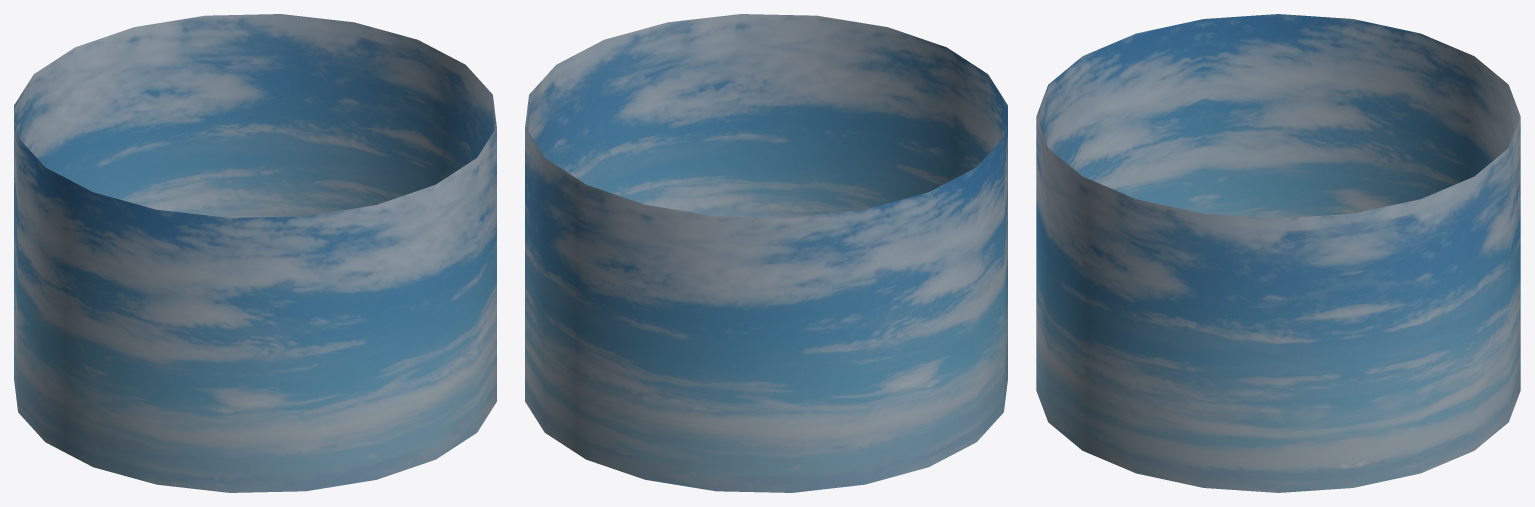
File: sky2_2.fbx
The picture shows the model from 3 angles, left to right: view 1: azimuth 30°, elevation 25°; view 2: azimuth 150°, elevation 25°; view 3: azimuth 270°, elevation 25°; orthographic projection.
Parts seen in each view (by area): view 1: pCylinder3; view 2: pCylinder3; view 3: pCylinder3.
Part boxes in pixels (x1,y1,x2,y2): pCylinder3: (14, 14, 496, 492); pCylinder3: (525, 14, 1007, 492); pCylinder3: (1036, 14, 1520, 492).
Size of the model in its own units: 20000 by 12500 by 20000.
